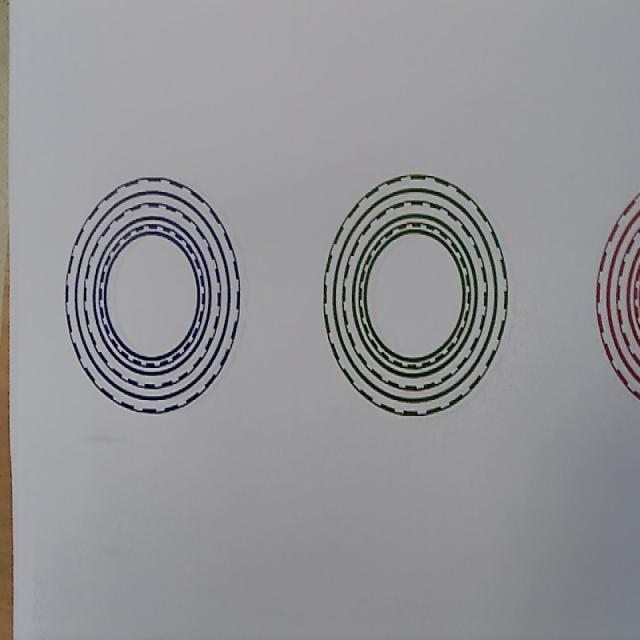b: (64, 176, 241, 415)
g: (324, 173, 508, 417)
